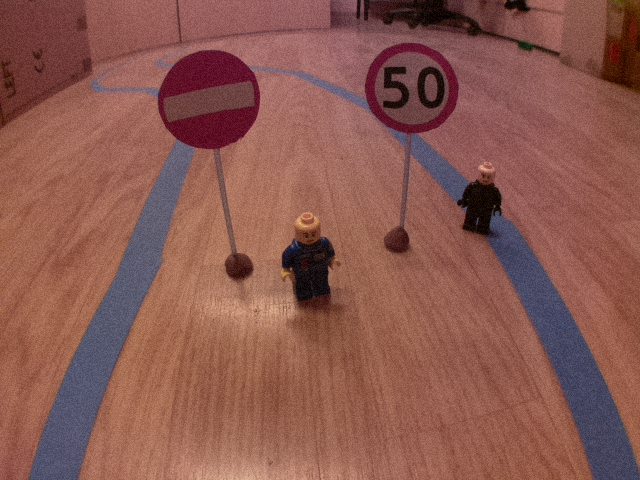LEGO_person: (279, 210, 344, 304), (456, 159, 507, 238)
ogr_50: (363, 39, 462, 135)
zakaz: (155, 47, 263, 152)
